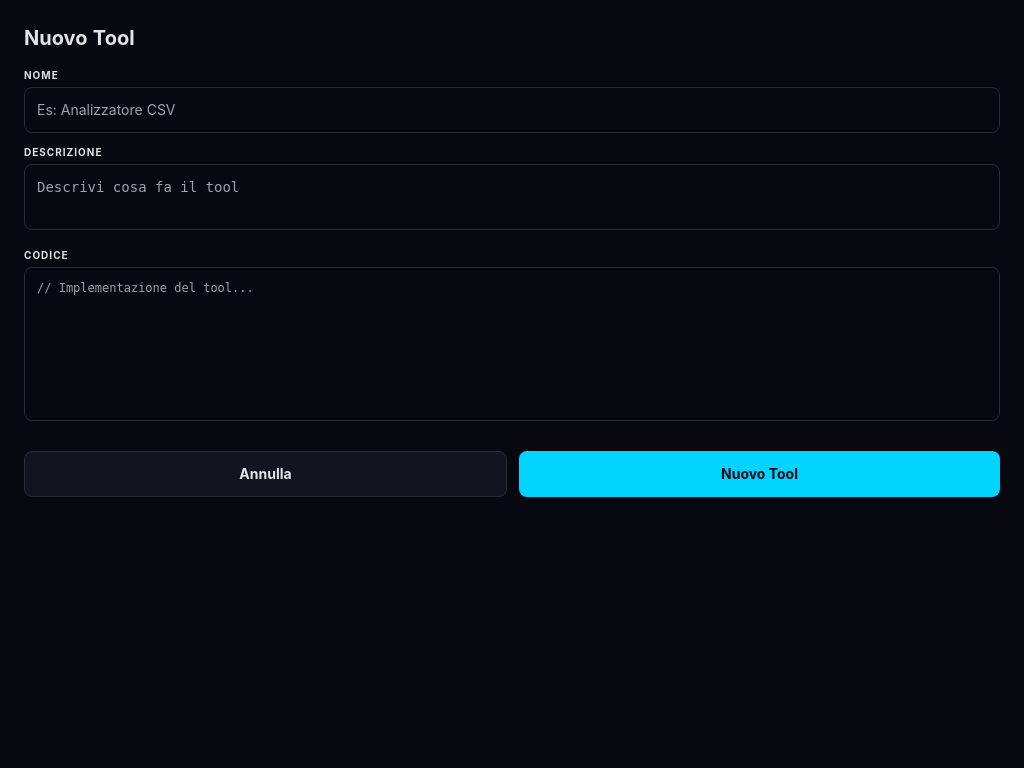
ToolForm › clears save error on retry
The width and height of the screenshot is (1024, 768).
Type "Test" into the field with placeholder "Es: Analizzatore CSV". click: [512, 110]
box: left=24, top=87, right=1000, bottom=133
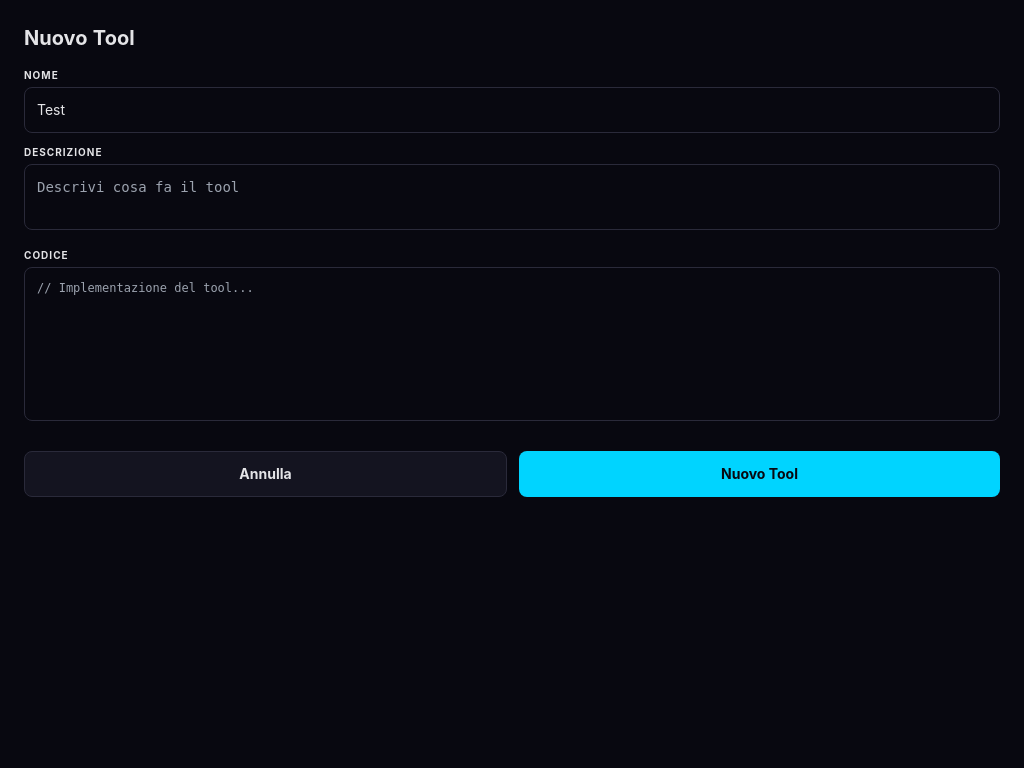
Click the button "Nuovo Tool". click: [760, 474]
box: left=519, top=451, right=1000, bottom=497
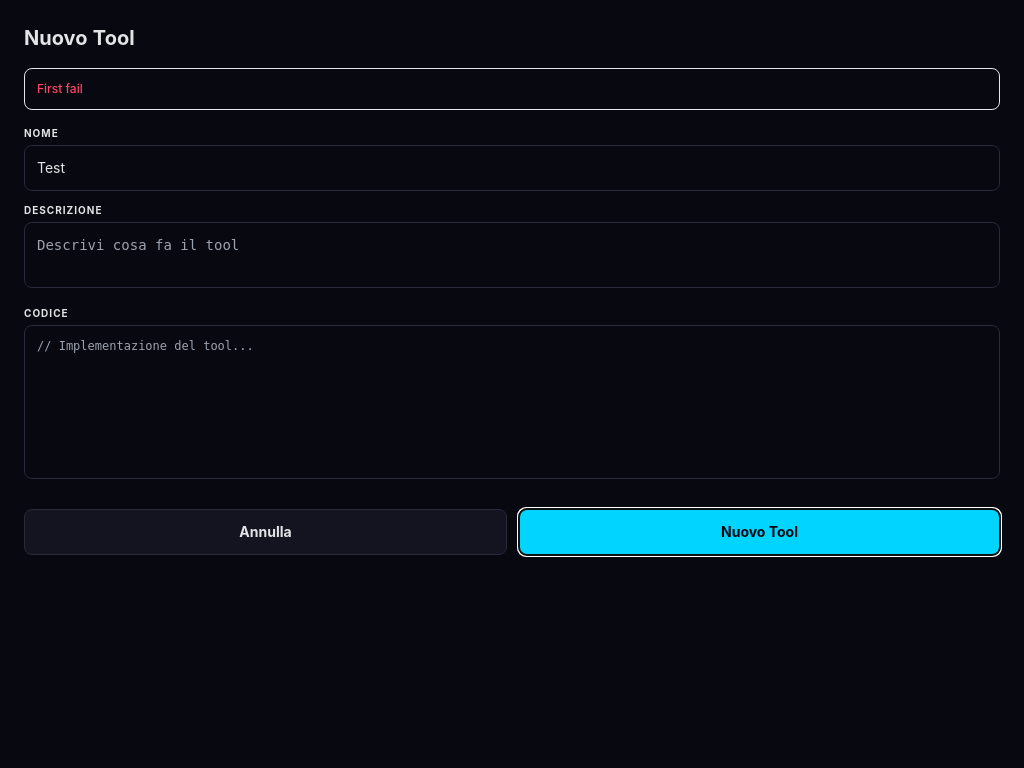
expect the text "First fail" is shown: met, box left=24, top=68, right=1000, bottom=110
Click the button "Nuovo Tool". click: [760, 532]
box: left=519, top=509, right=1000, bottom=555
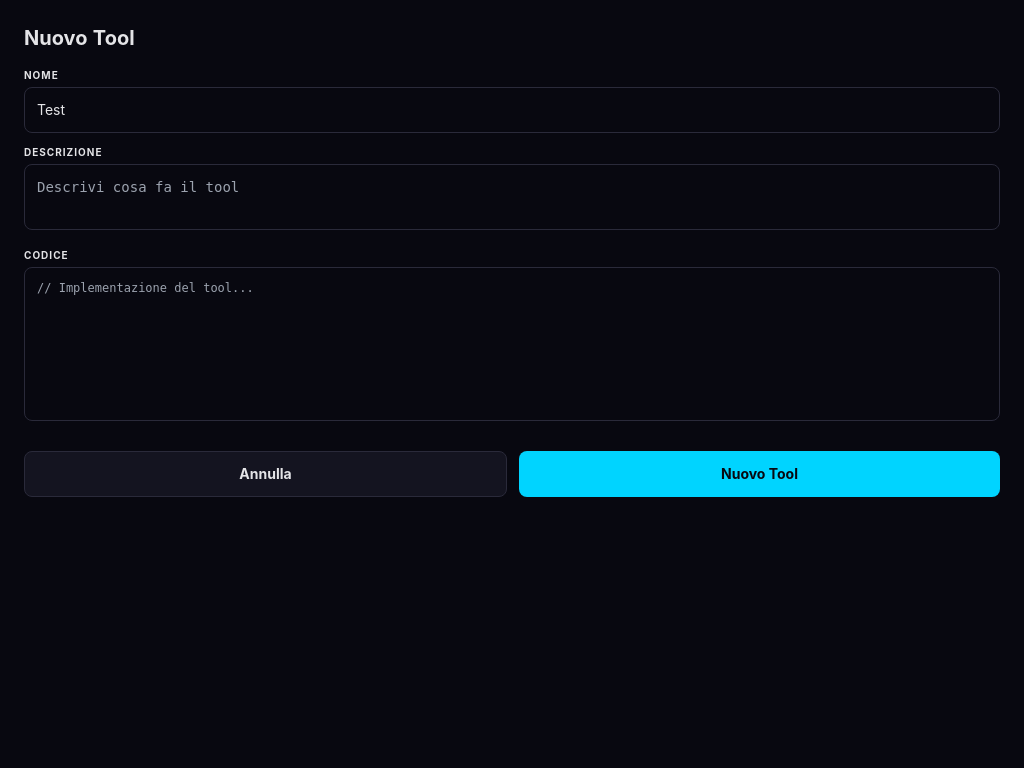
expect the text "First fail" is gone: met
